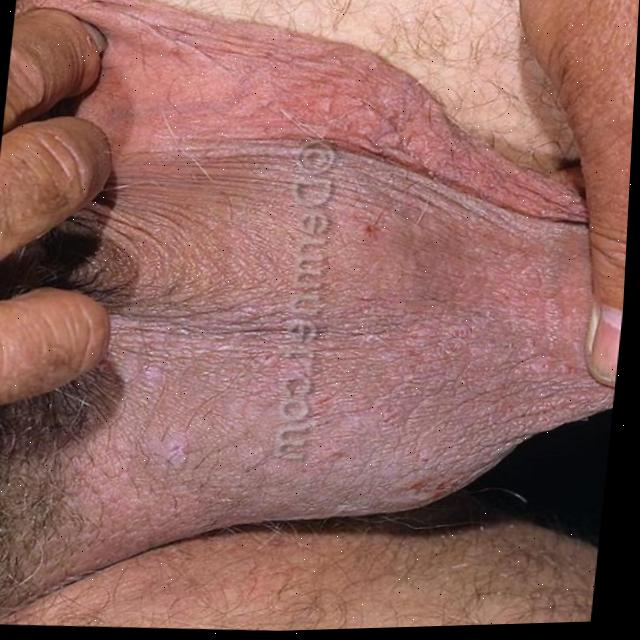Eczema: (66, 146, 604, 534)
